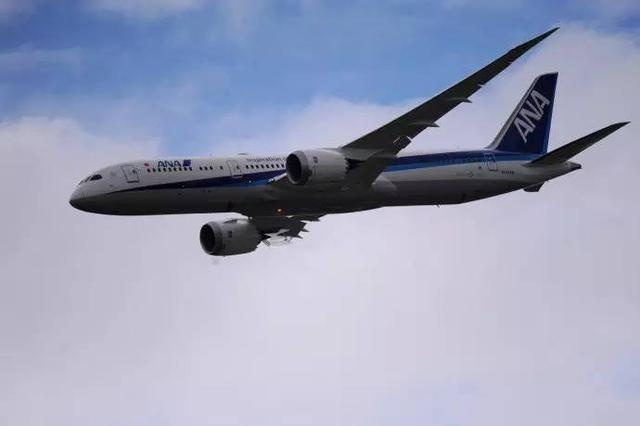airplane: (67, 25, 637, 258)
